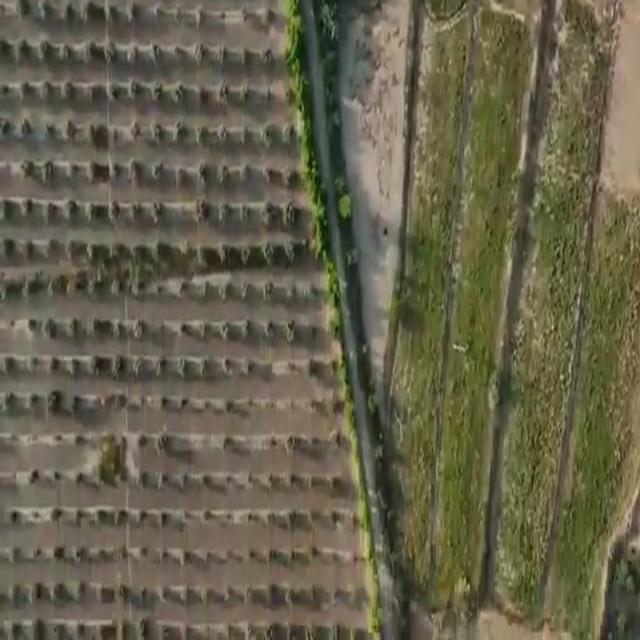trees: (97, 439, 124, 485), (194, 579, 210, 618), (150, 349, 170, 380), (128, 354, 148, 385), (341, 575, 358, 611), (191, 192, 210, 224), (0, 278, 21, 306), (280, 435, 301, 462), (0, 197, 17, 230), (5, 581, 22, 613), (169, 80, 188, 108), (146, 198, 165, 226), (42, 387, 64, 411), (186, 318, 207, 343), (144, 42, 164, 68), (82, 154, 98, 186), (260, 200, 278, 228), (217, 239, 235, 267), (0, 391, 18, 419), (215, 160, 232, 189), (148, 155, 165, 184), (55, 37, 73, 64), (0, 240, 18, 267), (282, 199, 298, 229), (91, 574, 106, 606), (8, 498, 22, 532), (41, 196, 60, 221), (82, 39, 102, 62), (217, 200, 234, 227), (192, 122, 210, 147), (306, 318, 322, 346), (217, 276, 233, 304), (281, 164, 298, 190), (41, 315, 60, 338), (262, 3, 278, 30), (188, 276, 206, 300), (132, 468, 150, 492), (84, 74, 97, 107), (5, 544, 22, 569), (192, 40, 207, 68), (39, 158, 54, 186), (104, 198, 123, 220), (154, 429, 170, 455), (131, 243, 147, 269), (16, 116, 32, 142), (196, 470, 214, 493), (133, 428, 151, 451), (105, 1, 122, 25), (65, 313, 82, 337), (128, 155, 142, 184), (110, 236, 126, 261), (1, 356, 22, 375), (175, 465, 187, 498), (82, 120, 100, 142), (45, 354, 63, 376), (191, 2, 205, 30), (196, 241, 210, 269), (132, 314, 146, 342), (284, 280, 300, 304), (282, 320, 298, 344), (235, 122, 251, 146), (192, 83, 208, 107), (92, 504, 108, 528), (37, 78, 53, 102), (44, 583, 62, 604), (262, 45, 277, 70), (172, 120, 187, 145), (326, 426, 343, 448), (198, 506, 215, 528), (60, 82, 77, 104), (262, 317, 278, 340), (240, 354, 256, 377), (283, 542, 298, 566), (215, 38, 227, 68), (194, 161, 209, 185), (153, 239, 168, 263), (128, 116, 143, 140), (88, 348, 103, 372), (61, 158, 79, 178), (56, 272, 74, 292), (23, 238, 38, 262), (260, 242, 277, 263), (282, 240, 298, 262), (126, 76, 142, 98), (62, 198, 78, 220), (171, 40, 184, 67), (109, 155, 122, 182), (113, 351, 126, 378), (261, 277, 275, 302), (70, 544, 84, 569), (195, 353, 207, 382), (83, 2, 100, 22), (217, 80, 230, 106), (153, 512, 167, 536), (150, 1, 162, 29), (81, 199, 97, 220), (32, 577, 44, 605), (2, 33, 16, 57), (259, 126, 274, 148), (284, 506, 299, 528), (237, 316, 252, 338), (67, 352, 78, 382), (113, 387, 126, 412), (0, 110, 12, 137), (0, 319, 19, 336), (263, 391, 277, 414), (237, 45, 251, 68), (237, 159, 251, 182), (123, 4, 138, 25), (154, 468, 167, 492), (126, 42, 140, 64), (64, 118, 78, 140), (150, 80, 166, 99), (179, 272, 189, 302), (70, 389, 82, 414), (20, 34, 32, 59), (18, 160, 33, 180), (179, 233, 192, 256), (109, 80, 122, 103), (151, 118, 165, 139), (70, 506, 84, 527), (91, 392, 108, 409), (282, 396, 300, 412), (216, 118, 228, 142), (133, 507, 149, 525), (109, 275, 121, 299), (327, 471, 338, 497), (170, 2, 183, 24), (114, 317, 125, 343), (51, 464, 64, 486), (73, 619, 88, 638), (86, 312, 100, 332), (32, 611, 42, 639), (284, 84, 296, 107), (243, 580, 255, 603), (39, 35, 51, 58), (105, 40, 116, 65), (283, 120, 296, 141), (30, 543, 43, 564), (27, 465, 41, 484), (266, 428, 278, 450), (240, 276, 252, 298), (220, 318, 232, 340), (118, 540, 130, 562), (84, 239, 95, 263), (155, 393, 168, 413), (62, 240, 75, 260), (304, 508, 318, 526), (242, 471, 254, 492), (222, 357, 236, 375), (224, 396, 236, 417), (173, 162, 187, 180), (137, 542, 149, 563), (176, 353, 186, 378), (262, 162, 275, 181), (284, 470, 297, 489), (153, 280, 164, 302), (285, 358, 297, 378), (238, 83, 250, 103), (241, 242, 253, 262), (176, 394, 188, 414), (138, 277, 148, 301), (135, 614, 147, 634), (43, 121, 58, 137), (44, 238, 59, 254), (46, 273, 56, 297), (21, 83, 33, 103), (0, 77, 12, 97), (220, 435, 234, 452), (73, 470, 86, 488), (36, 2, 49, 20), (51, 504, 64, 522), (239, 4, 250, 25), (246, 546, 258, 565), (129, 198, 141, 217), (52, 545, 66, 561), (29, 272, 43, 288), (263, 85, 274, 105), (308, 352, 319, 372), (243, 508, 254, 528), (31, 504, 42, 524), (306, 584, 318, 602), (87, 270, 96, 294), (241, 201, 251, 222), (26, 315, 38, 332), (54, 430, 65, 448), (25, 196, 36, 214), (264, 508, 276, 524), (284, 587, 296, 603), (74, 429, 85, 446), (222, 472, 235, 486), (300, 286, 312, 301), (304, 474, 316, 489), (330, 394, 342, 409), (76, 578, 86, 596), (115, 582, 126, 598), (264, 469, 274, 486), (62, 5, 75, 18), (300, 236, 312, 250), (306, 433, 316, 449), (116, 505, 126, 521), (96, 545, 106, 561), (157, 317, 169, 330), (177, 319, 185, 338), (30, 352, 40, 367), (308, 396, 316, 414), (329, 358, 338, 374), (268, 548, 279, 561), (111, 127, 122, 140), (246, 396, 256, 410), (20, 1, 30, 15), (329, 509, 338, 524), (224, 512, 236, 522), (30, 393, 40, 405), (219, 11, 228, 24), (265, 580, 272, 596), (310, 542, 316, 560), (140, 585, 149, 596), (206, 318, 206, 318)
